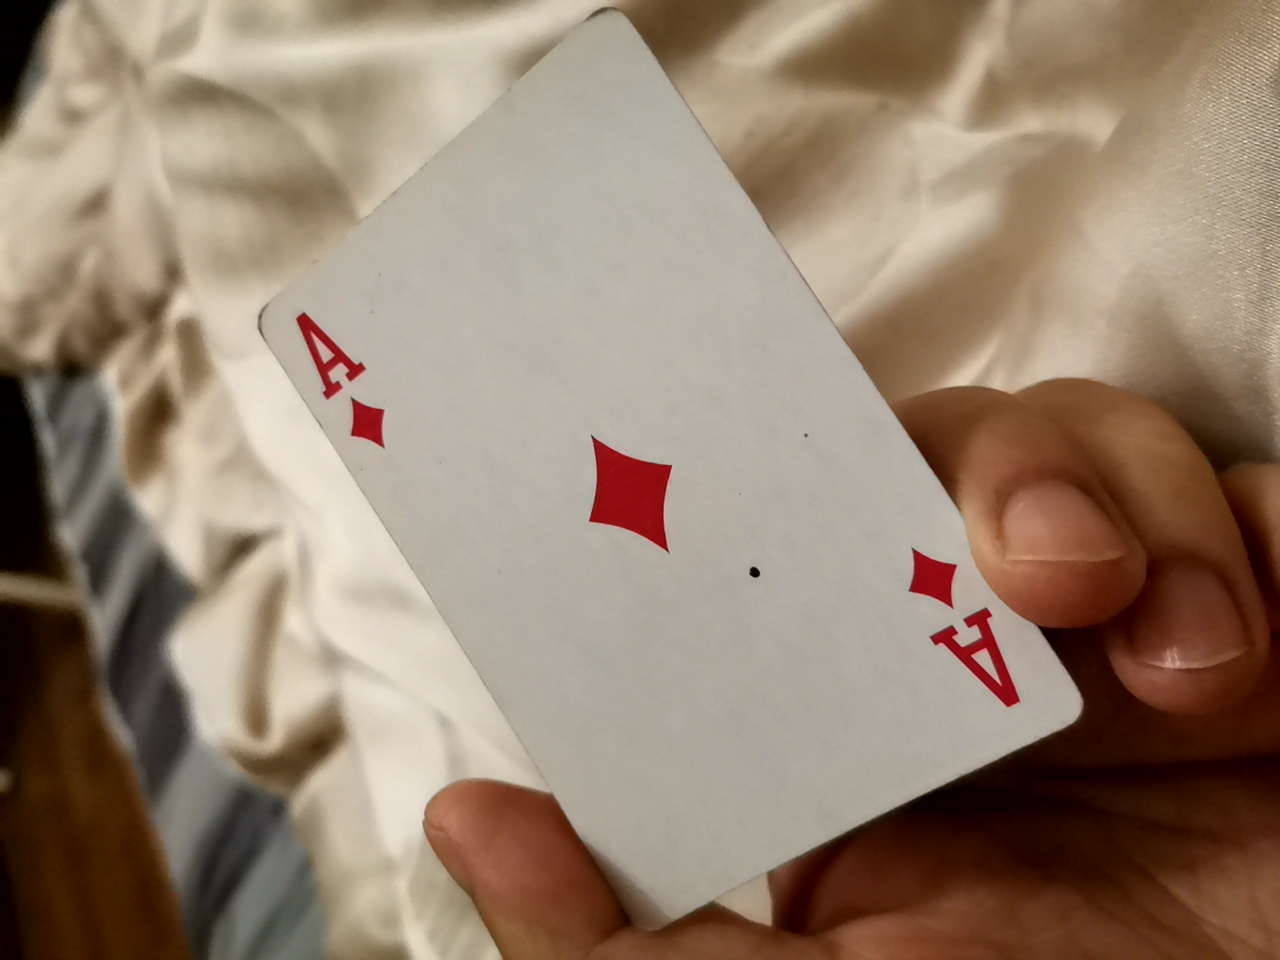fk a: (178, 31, 1083, 942)
